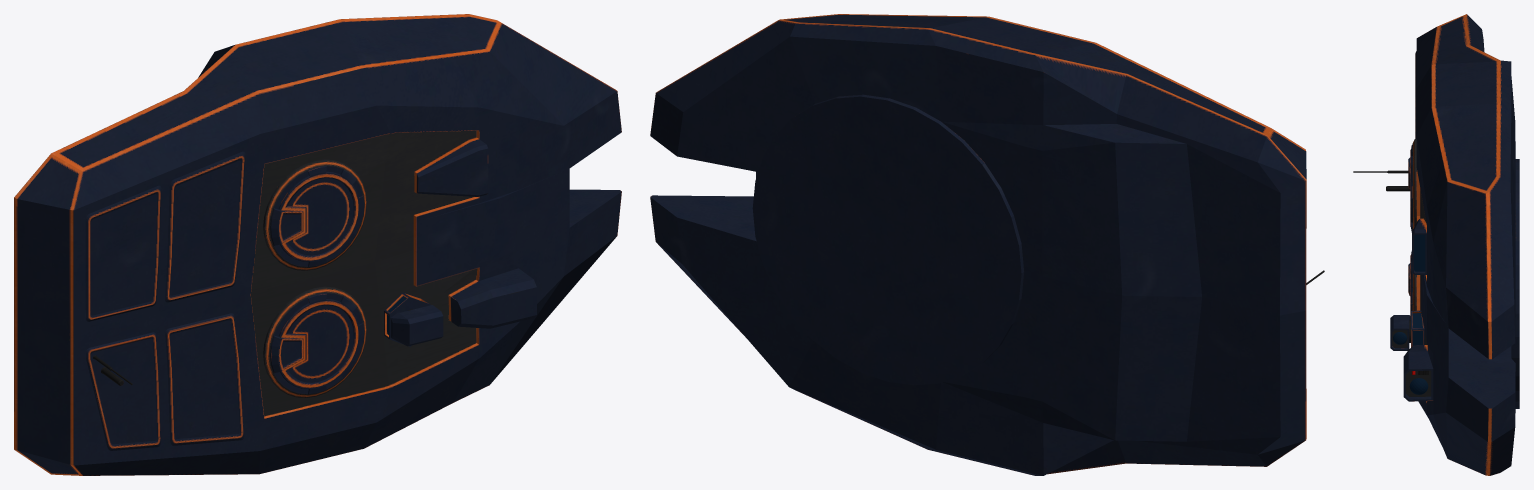
Rendered from Turret.glb.
The picture shows the model from 3 angles, left to right: view 1: azimuth 30°, elevation 25°; view 2: azimuth 150°, elevation 25°; view 3: azimuth 270°, elevation 25°; orthographic projection. The views are drawn at different scales.
Visible parts, largest first — view 1: Turret.073; view 2: Turret.073; view 3: Turret.073, Turret_optic.001, Turret_plastic.
Boxes of the visible parts, x1,y1,x2,y2 form: Turret.073: (14,14,621,475); Turret.073: (650,14,1306,475); Turret.073: (1390,14,1519,475); Turret_optic.001: (1393,234,1428,394); Turret_plastic: (1353,170,1428,374).
Bounding box in the file's own units: 0.5924 × 0.3722 × 0.1656.
3 materials, 2 textured.
